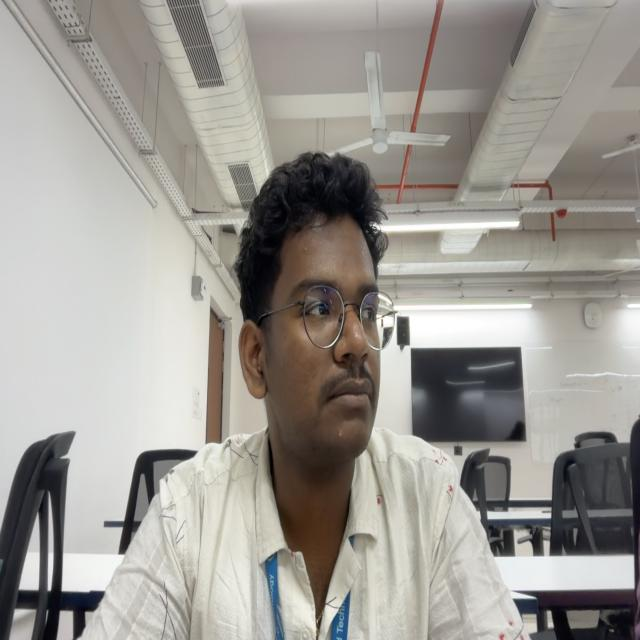sai: (237, 151, 398, 463)
